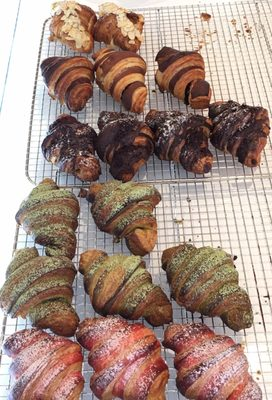curry: (85, 180, 163, 257)
